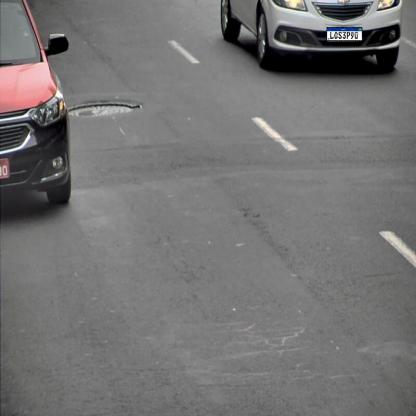PlacaM: (326, 27, 362, 41)
